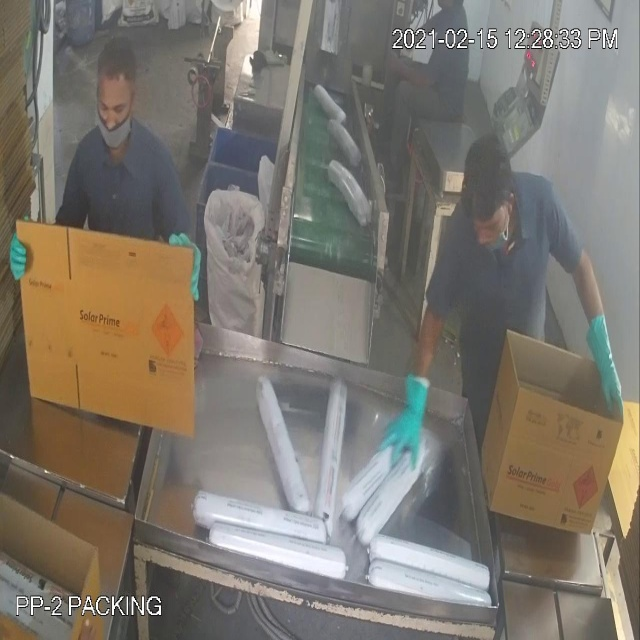Guantes: (375, 355, 441, 481), (581, 276, 629, 425)
Sin_guantes: (376, 40, 449, 116)
